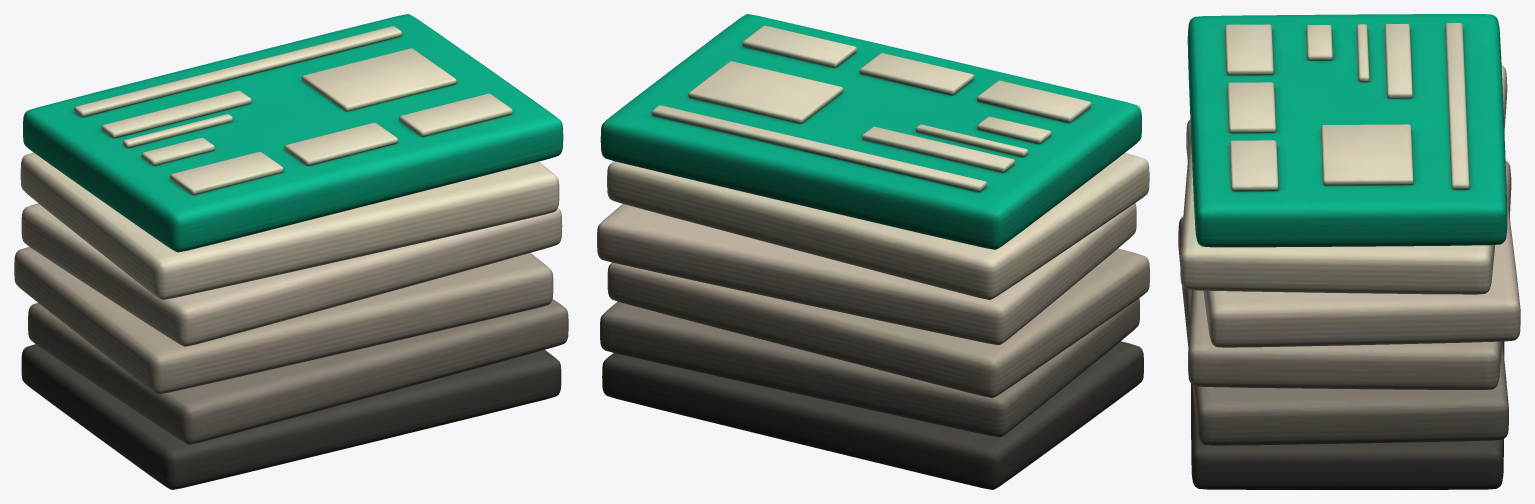
File: stack.glb
The picture shows the model from 3 angles, left to right: view 1: azimuth 30°, elevation 25°; view 2: azimuth 150°, elevation 25°; view 3: azimuth 270°, elevation 25°; orthographic projection. The views are drawn at different scales.
Parts seen in each view (by area): view 1: Slab_6_mesh, Slab_3_mesh, Slab_5_mesh, Slab_1_mesh, Slab_2_mesh, Slab_4_mesh; view 2: Slab_6_mesh, Slab_1_mesh, Slab_4_mesh, Slab_3_mesh, Slab_5_mesh, Slab_2_mesh; view 3: Slab_6_mesh, Slab_2_mesh, Slab_4_mesh, Slab_5_mesh, Slab_3_mesh, Slab_1_mesh.
Part boxes in pixels (left/top/right/bottom): Slab_6_mesh: left=23, top=14, right=563, bottom=252; Slab_3_mesh: left=14, top=247, right=553, bottom=394; Slab_5_mesh: left=20, top=152, right=559, bottom=299; Slab_1_mesh: left=21, top=344, right=561, bottom=489; Slab_2_mesh: left=28, top=299, right=568, bottom=444; Slab_4_mesh: left=21, top=203, right=562, bottom=346; Slab_6_mesh: left=600, top=14, right=1141, bottom=249; Slab_1_mesh: left=602, top=341, right=1143, bottom=489; Slab_4_mesh: left=597, top=203, right=1136, bottom=344; Slab_3_mesh: left=607, top=248, right=1149, bottom=397; Slab_5_mesh: left=607, top=153, right=1149, bottom=299; Slab_2_mesh: left=600, top=298, right=1139, bottom=437; Slab_6_mesh: left=1187, top=14, right=1507, bottom=247; Slab_2_mesh: left=1178, top=217, right=1508, bottom=445; Slab_4_mesh: left=1186, top=119, right=1520, bottom=347; Slab_5_mesh: left=1180, top=65, right=1507, bottom=294; Slab_3_mesh: left=1188, top=161, right=1511, bottom=389; Slab_1_mesh: left=1191, top=341, right=1504, bottom=489.
Size of the model in its own units: 2.51 by 1.64 by 1.75.
Materials: 1 (1 with a texture image).
